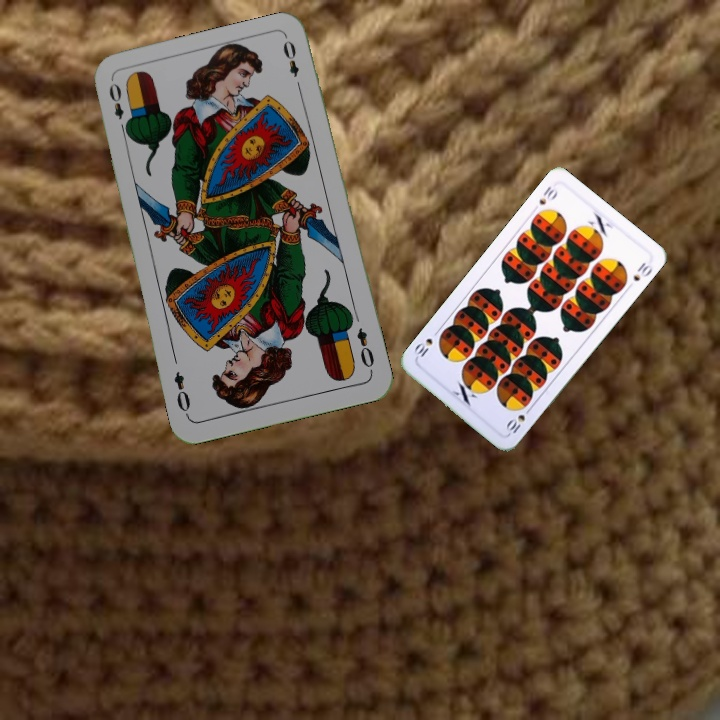EO: (105, 78, 131, 136), (353, 324, 377, 375)
S10: (502, 403, 535, 437), (535, 182, 561, 207)
